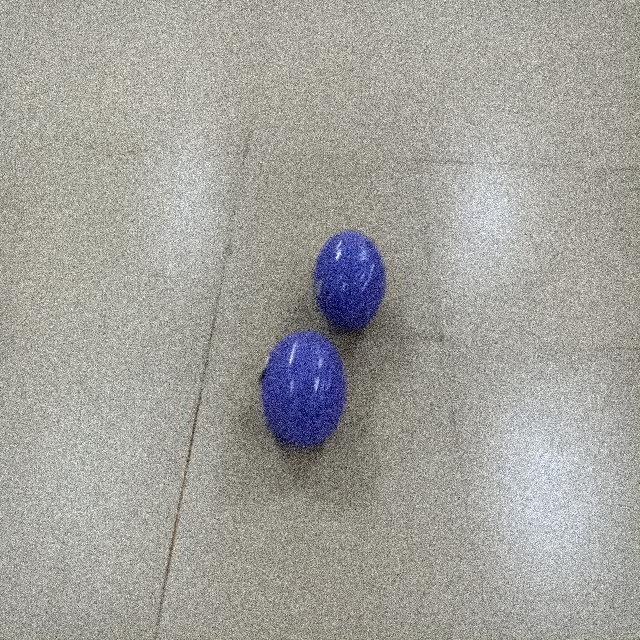purple_ball: (246, 322, 354, 456), (316, 224, 398, 331)
